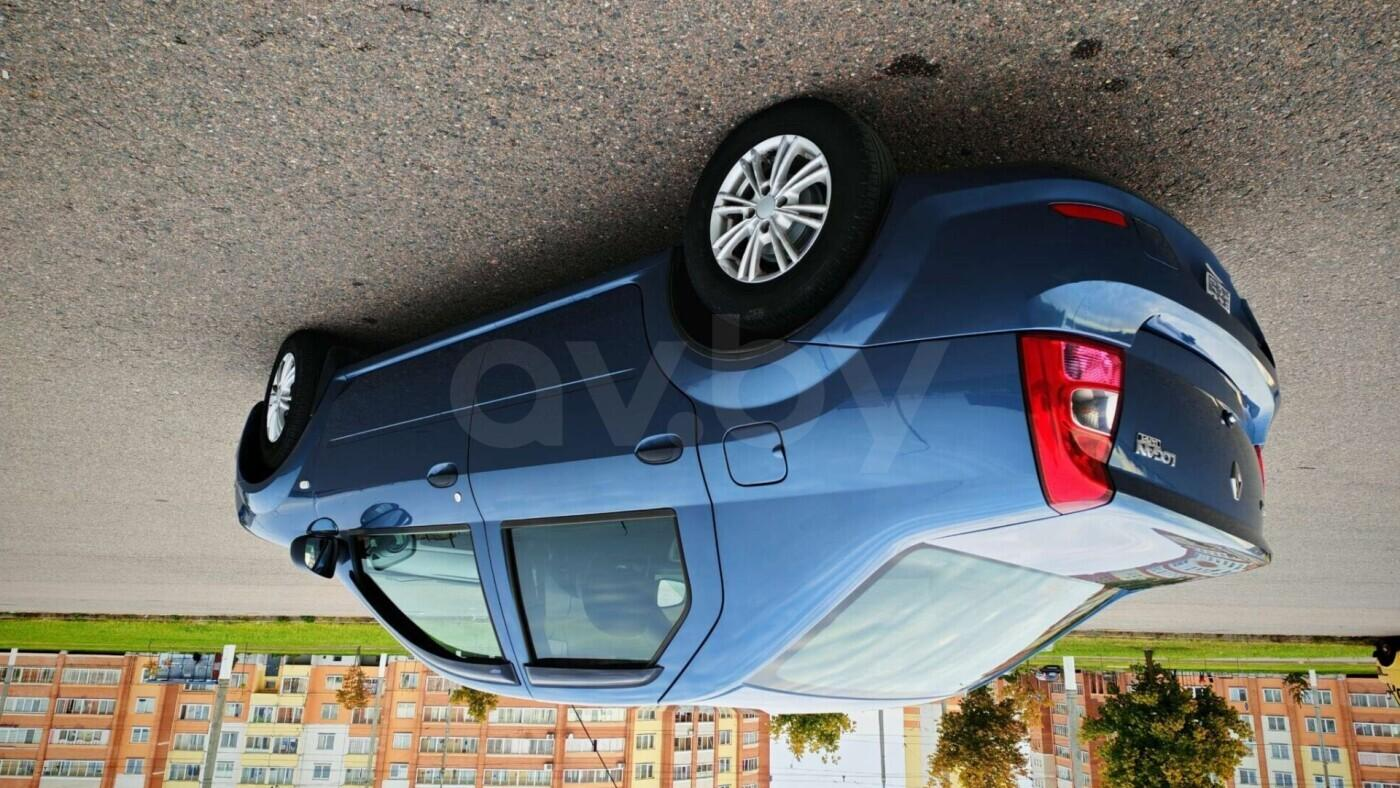Logan_2008-2015: (231, 89, 1292, 769)
